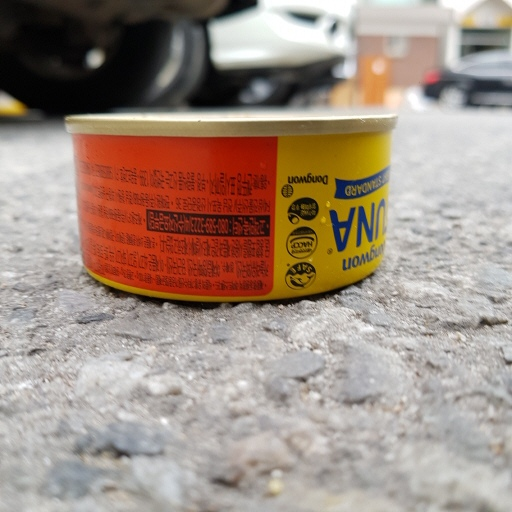Metal_1: (63, 108, 403, 306)
